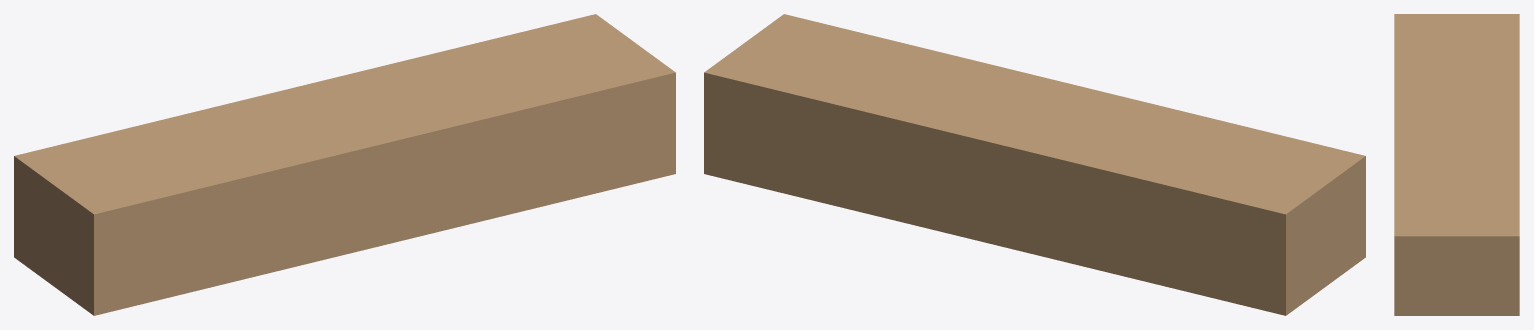
Rendered from Prop_Water_AMF_Trough_V10.glb.
The picture shows the model from 3 angles, left to right: view 1: azimuth 30°, elevation 25°; view 2: azimuth 150°, elevation 25°; view 3: azimuth 270°, elevation 25°; orthographic projection. The views are drawn at different scales.
Parts seen in each view (by area): view 1: Prop_Water_AMF_Trough_V10; view 2: Prop_Water_AMF_Trough_V10; view 3: Prop_Water_AMF_Trough_V10.
Part boxes in pixels (bbox=[...]): Prop_Water_AMF_Trough_V10: bbox=[14, 14, 675, 315]; Prop_Water_AMF_Trough_V10: bbox=[704, 14, 1365, 315]; Prop_Water_AMF_Trough_V10: bbox=[1394, 14, 1519, 315].
Size of the model in its own units: 2.1 by 0.35 by 0.5.
